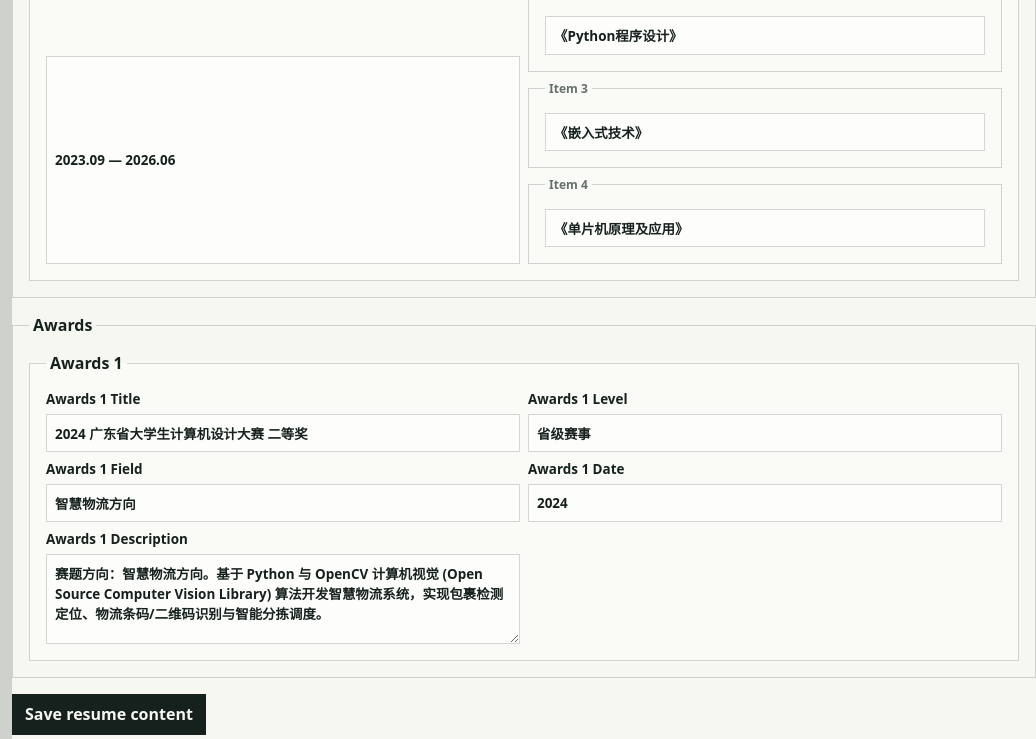
Test case: AdminContentForm › does not save invalid nested skill fields
The image size is (1036, 739).
(page scrolled)
Click the button "Save resume content" at (109,714), box [12,694,206,735]
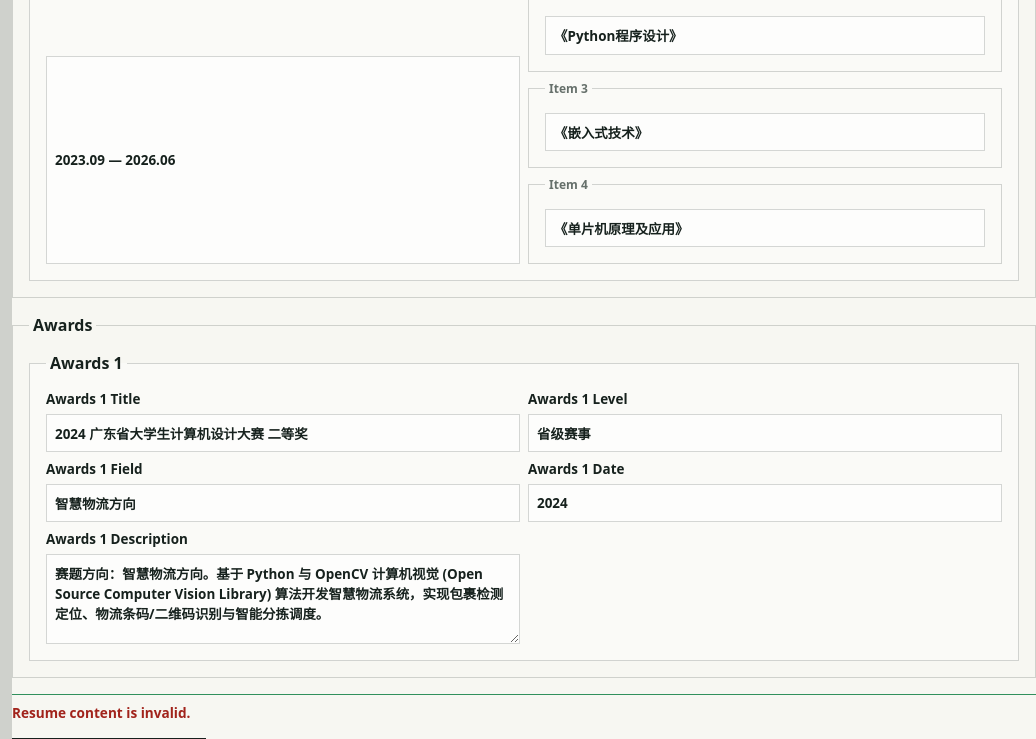
Check: the message reads "Resume content is invalid.", box [12,703,190,722]
